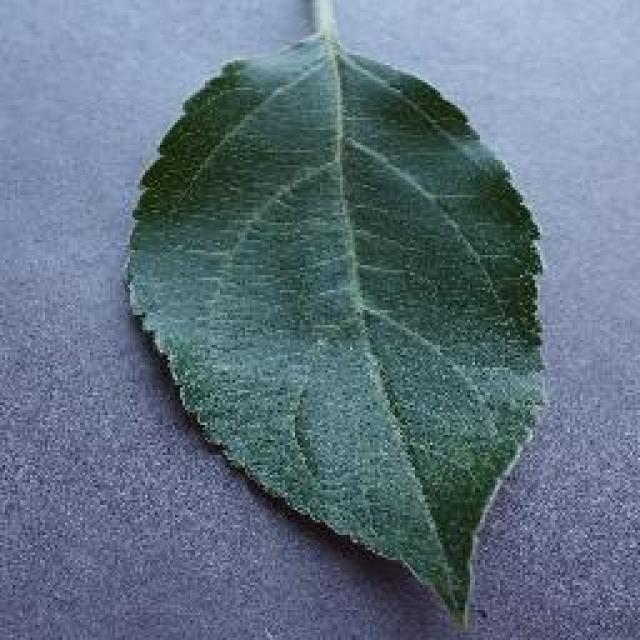apple healthy: (120, 0, 550, 628)
